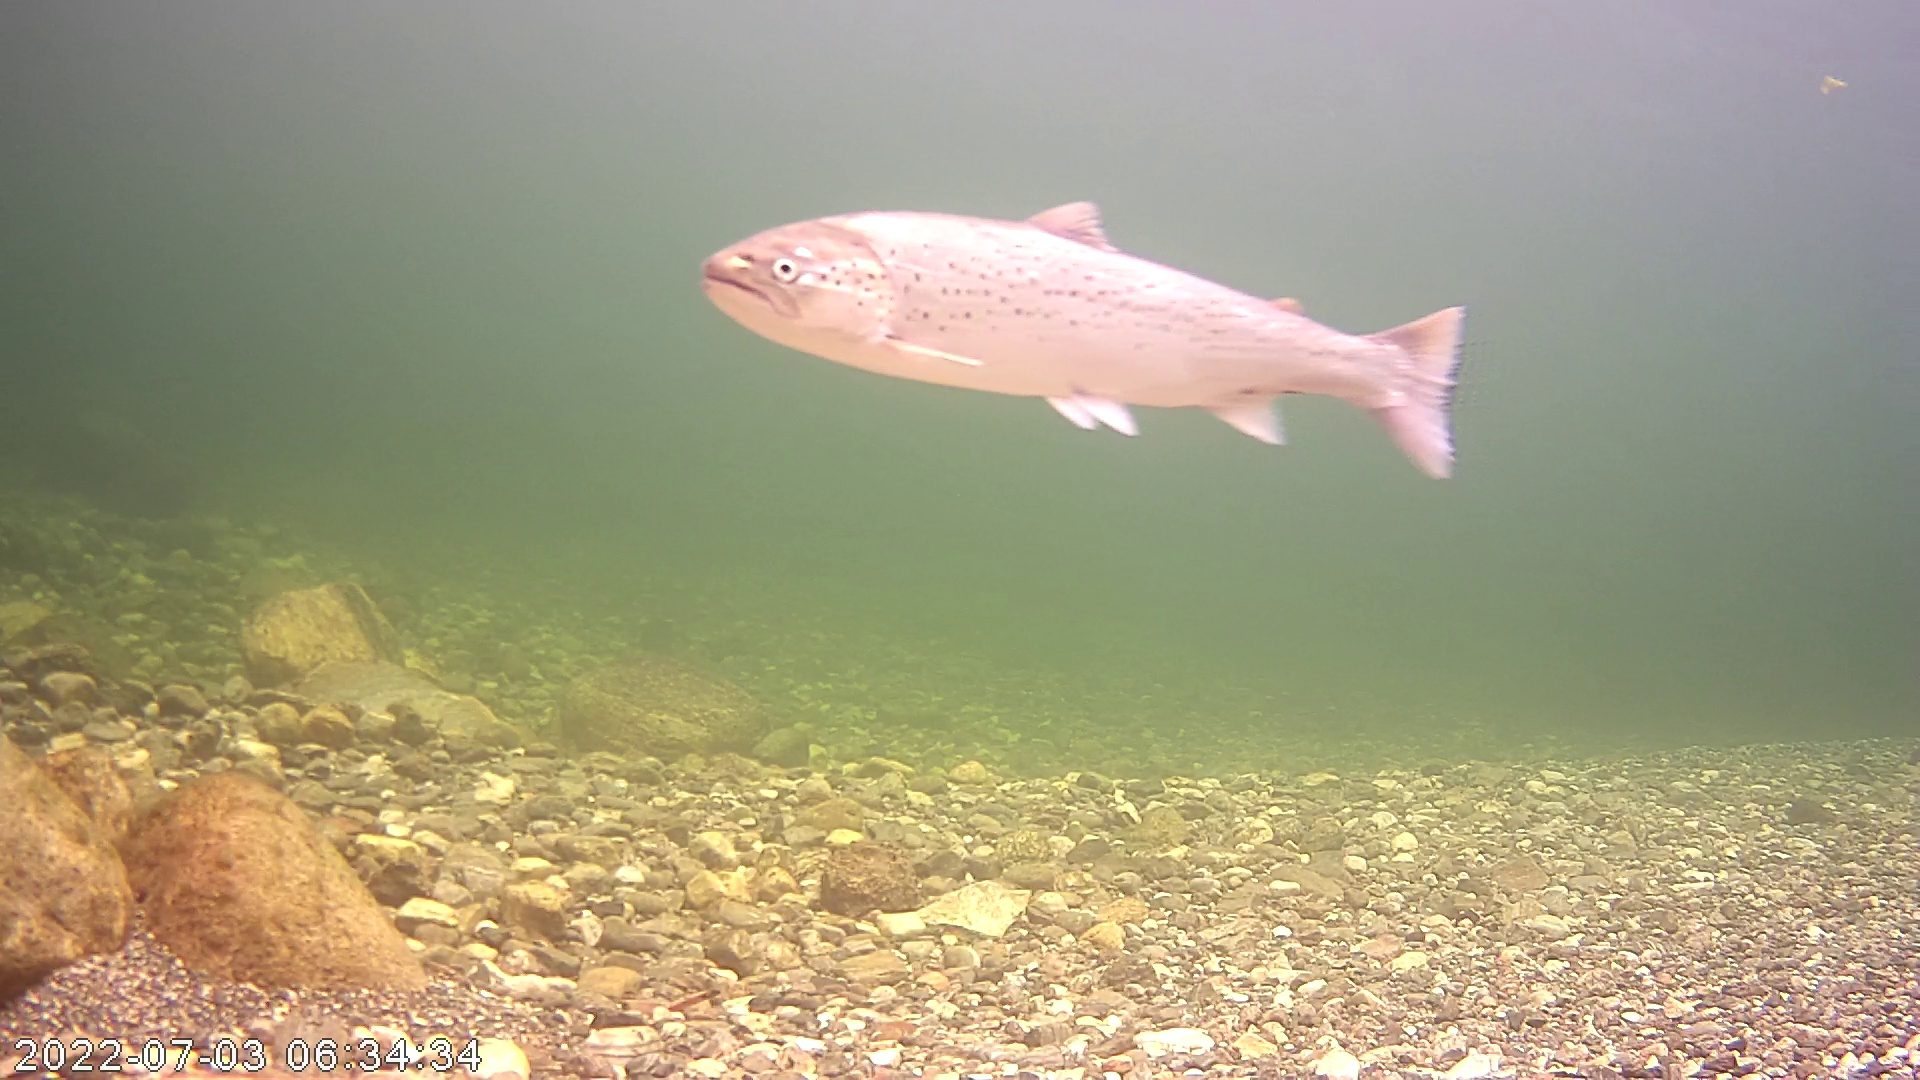salmon: (698, 196, 1468, 483)
